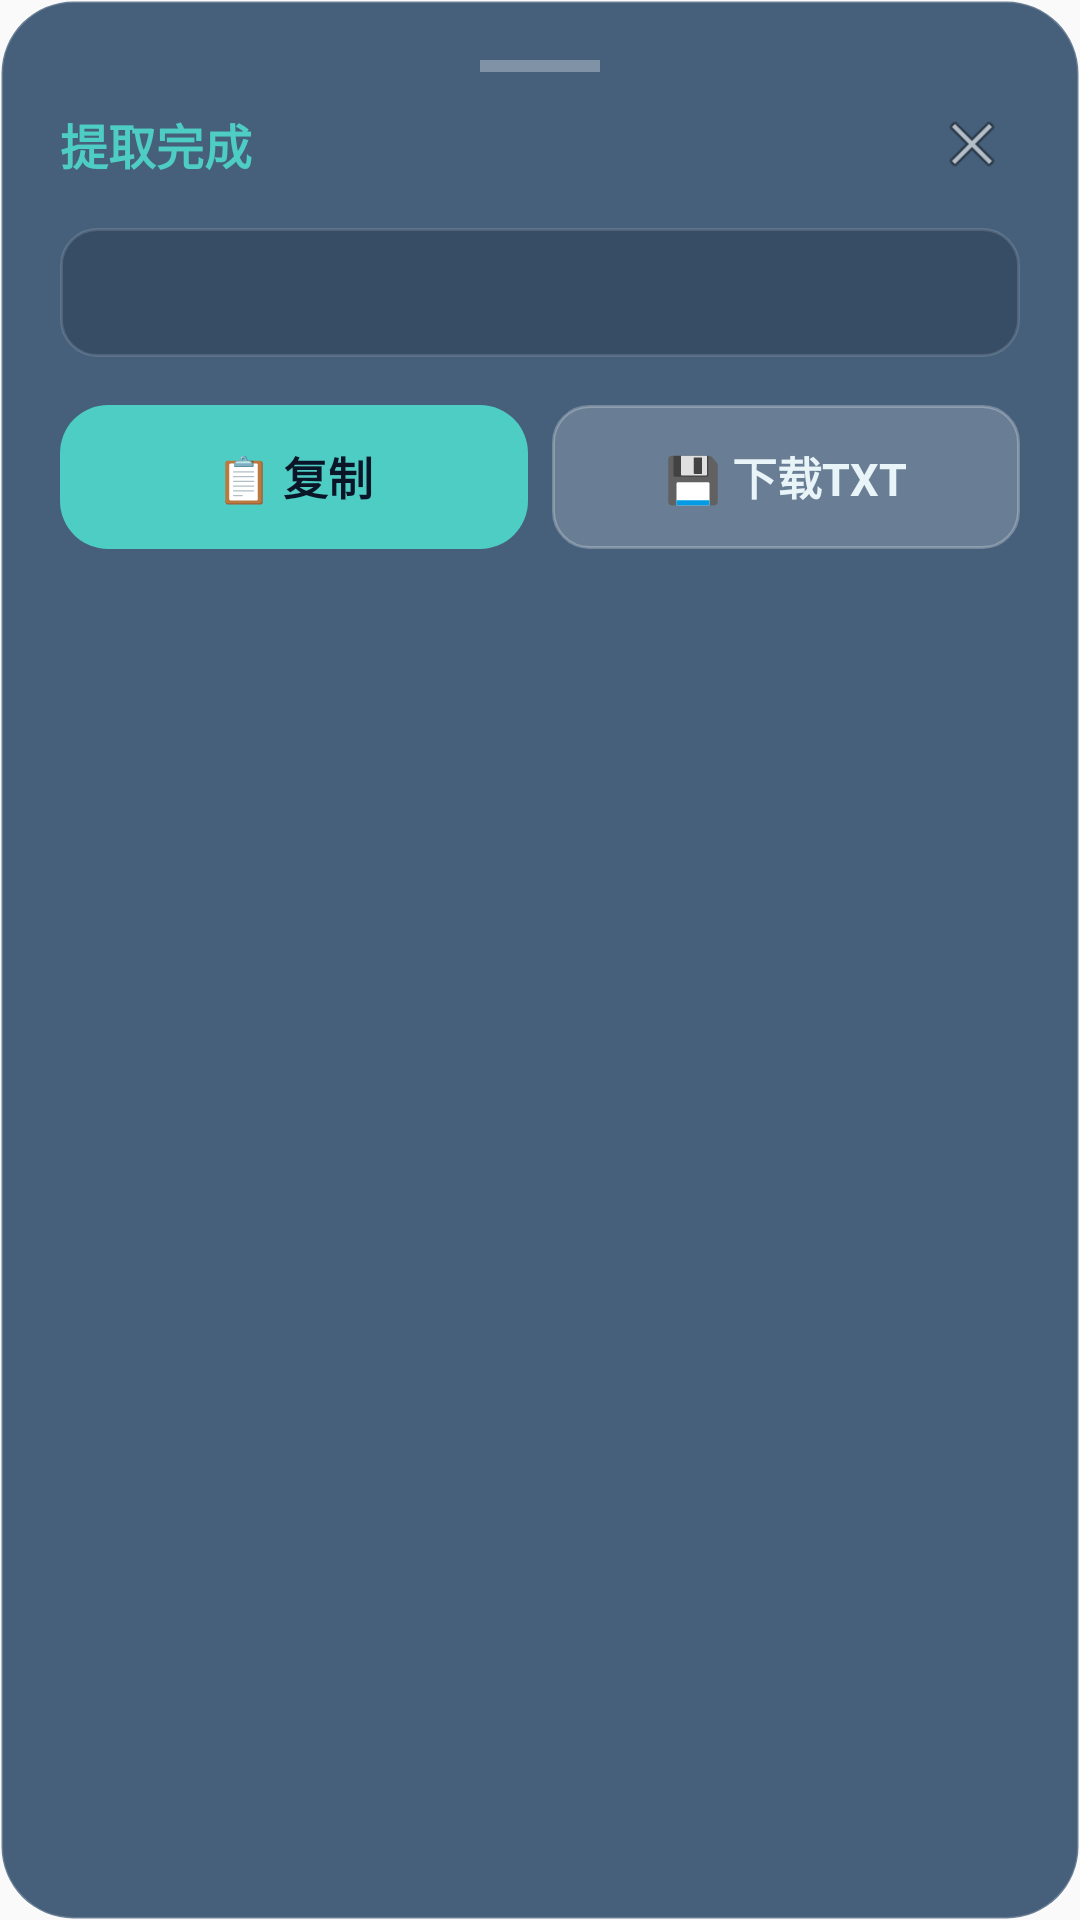

Where to tap for icons on this 1080px×1920px app screen, as [x,y]:
close clear cancel: [972,144]
